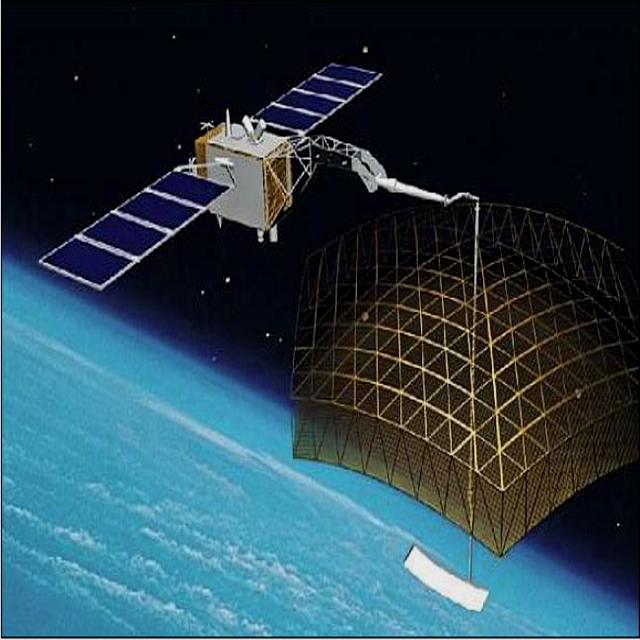medium_debris: (27, 0, 640, 574)
